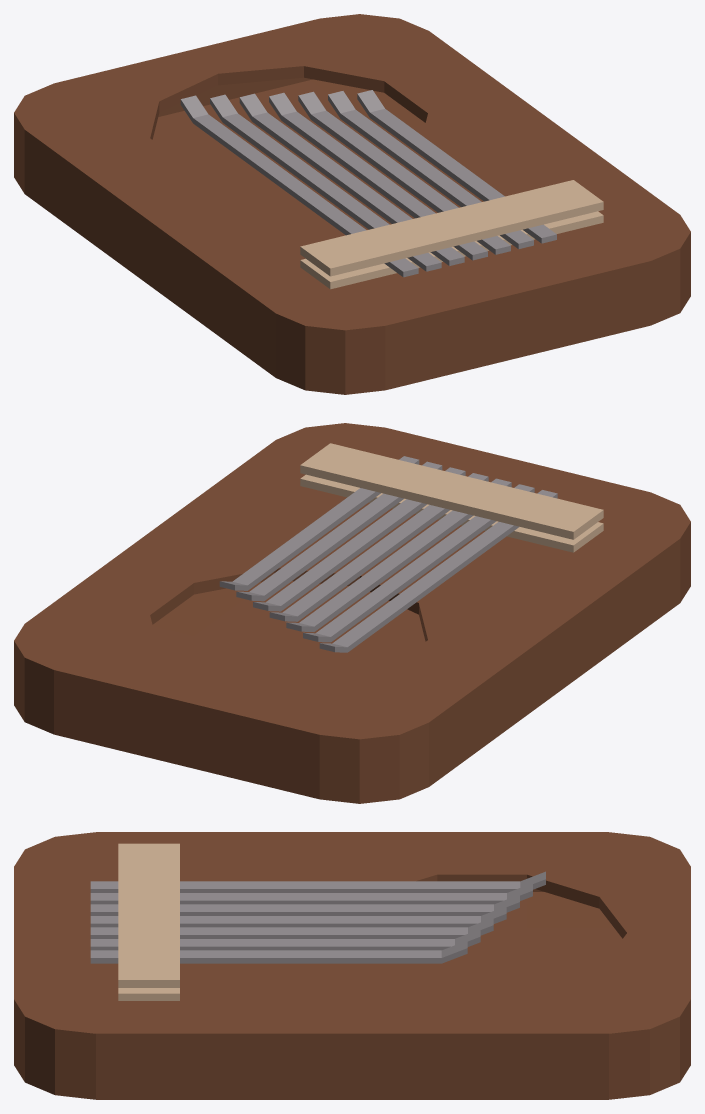
File: kalimba.fbx
3 views of the same model, one above another, from view 1: azimuth 30°, elevation 25°; view 2: azimuth 150°, elevation 25°; view 3: azimuth 270°, elevation 25° (orthographic). The views are drawn at different scales.
Visible parts, largest first — view 1: kalimba, tongues, bridge; view 2: kalimba, tongues, bridge; view 3: kalimba, tongues, bridge.
Boxes of the visible parts, bbox=[...] form: kalimba: bbox=[14, 14, 690, 394]; tongues: bbox=[180, 90, 556, 277]; bridge: bbox=[300, 180, 603, 289]; kalimba: bbox=[14, 423, 690, 803]; tongues: bbox=[219, 456, 557, 652]; bridge: bbox=[300, 443, 603, 552]; kalimba: bbox=[14, 832, 690, 1099]; tongues: bbox=[90, 871, 545, 963]; bridge: bbox=[118, 843, 179, 1000].
Size of the model in its own units: 9.13 by 1.88 by 12.95.
